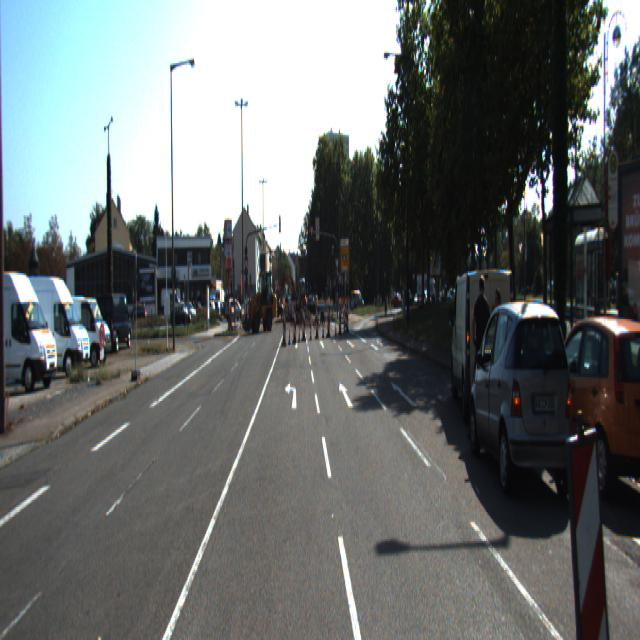Car: (466, 290, 576, 495), (534, 307, 639, 490), (7, 276, 92, 383), (0, 269, 60, 395), (55, 295, 112, 372), (241, 271, 277, 338)
